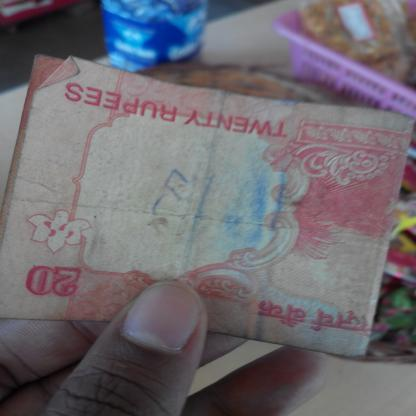Old20Back: (12, 91, 416, 343)
